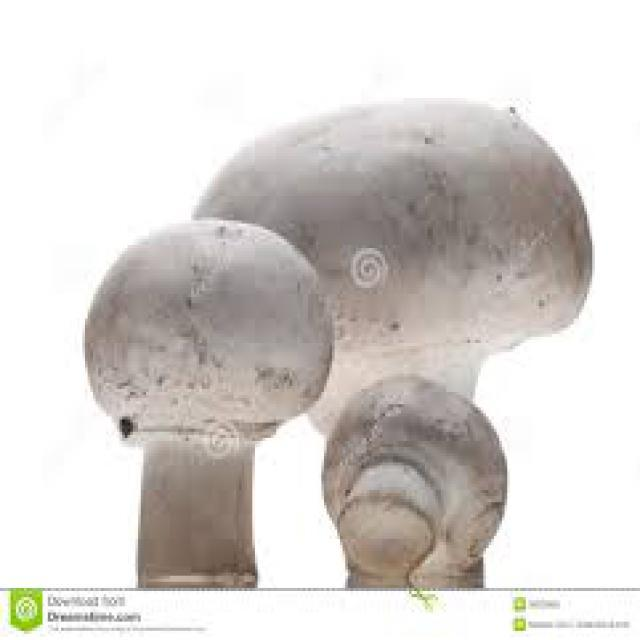Agaricus bisporus: (196, 101, 582, 415), (81, 220, 332, 601), (323, 376, 507, 591)
